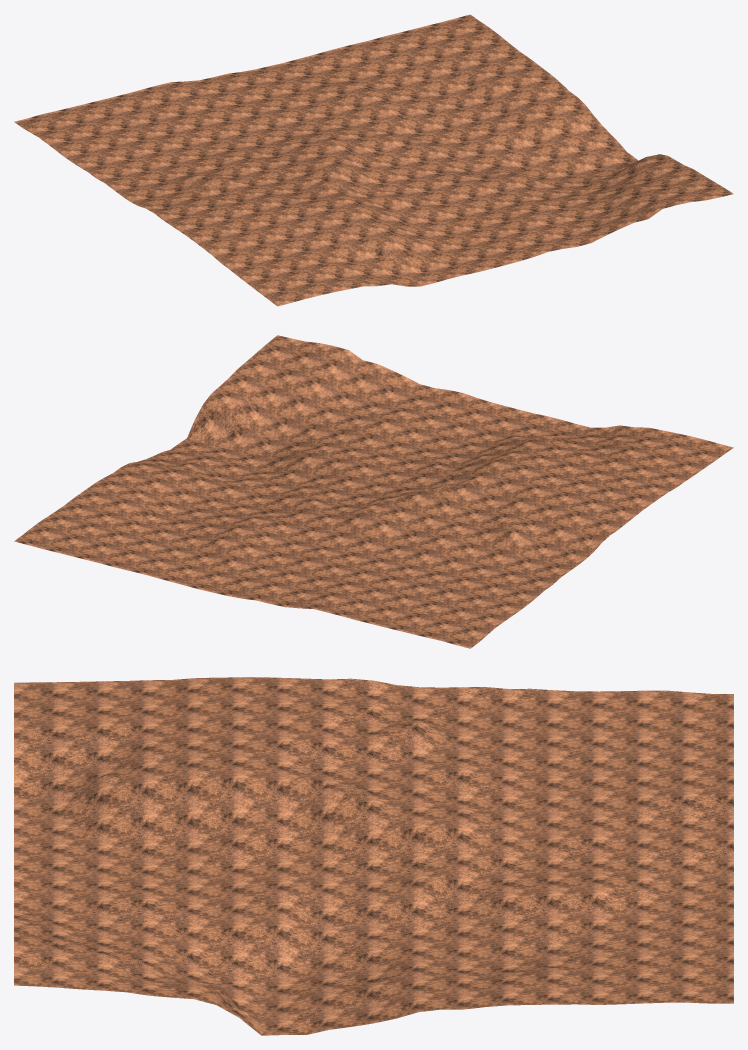
Rendered from terrain_02_15.dae.
The picture shows the model from 3 angles, top to bottom: view 1: azimuth 30°, elevation 25°; view 2: azimuth 150°, elevation 25°; view 3: azimuth 270°, elevation 25°; orthographic projection. The views are drawn at different scales.
Visible parts, largest first — view 1: terrain_02_15-node; view 2: terrain_02_15-node; view 3: terrain_02_15-node.
Boxes of the visible parts, x1,y1,x2,y2 form: terrain_02_15-node: (14,14,733,306); terrain_02_15-node: (14,335,733,648); terrain_02_15-node: (14,677,733,1035).
Size of the model in its own units: 128 by 128 by 11.4.
Materials: 1 (1 with a texture image).
